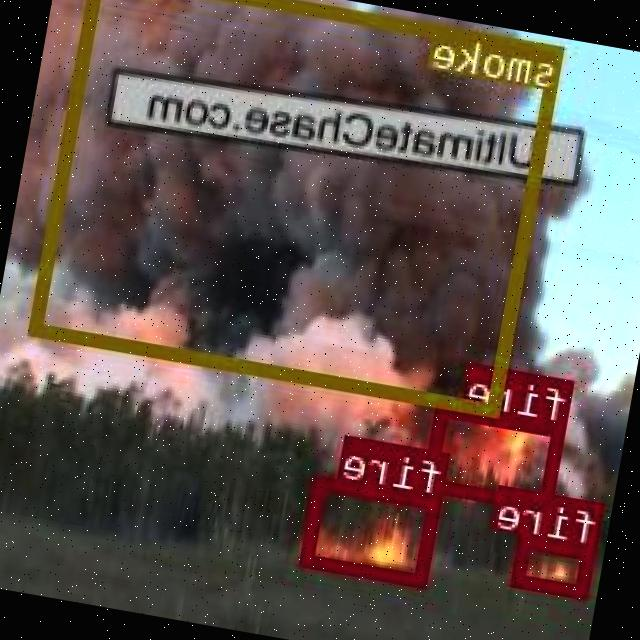fire: (303, 474, 443, 584), (426, 402, 568, 510), (513, 532, 598, 596)
smoke: (30, 0, 567, 415)
